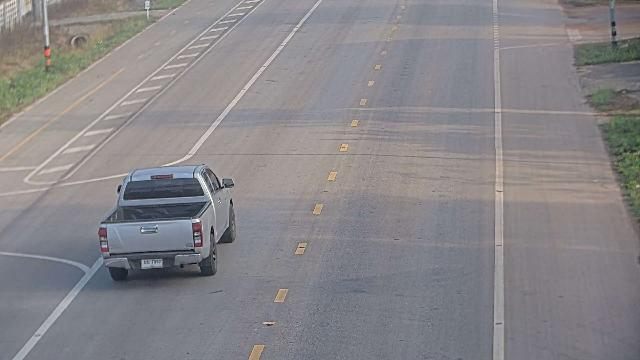pickup-truck: (97, 163, 237, 281)
